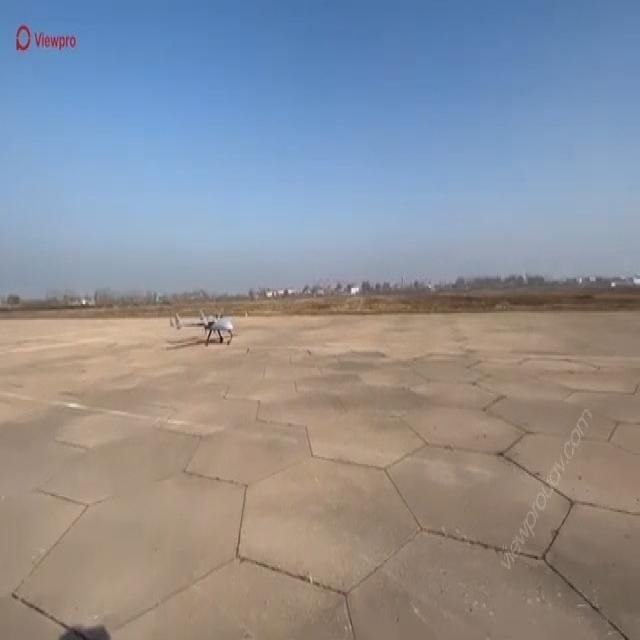drones: (164, 302, 244, 364)
